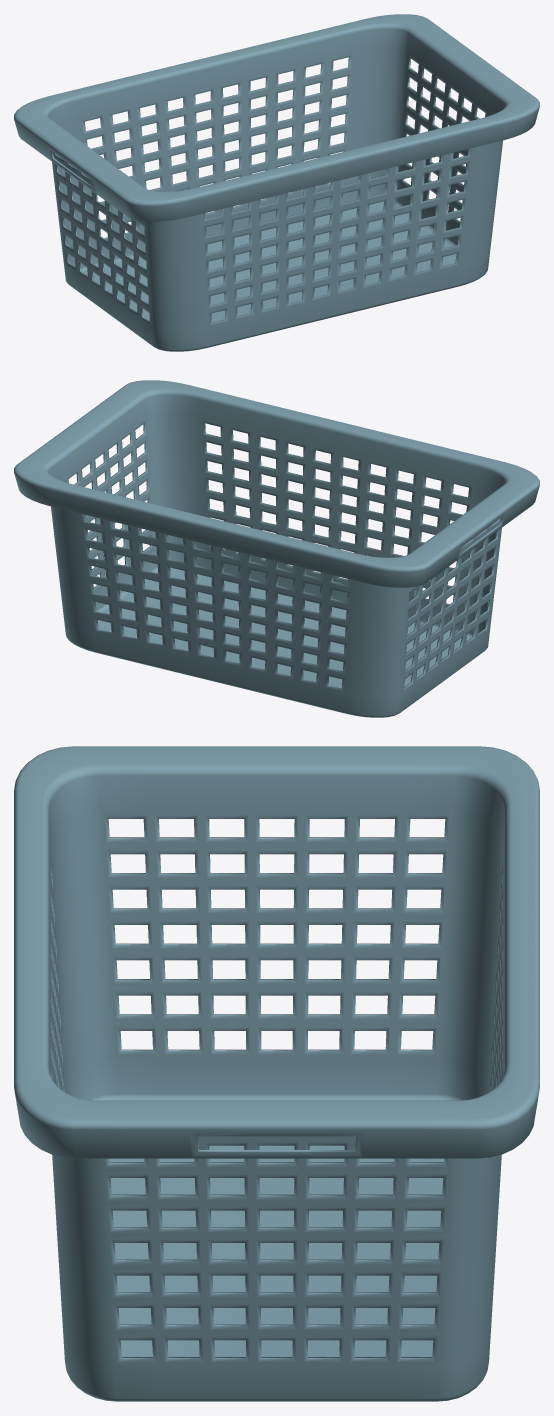
Rendered from PlasticWashingbasket.fbx.
The picture shows the model from 3 angles, top to bottom: view 1: azimuth 30°, elevation 25°; view 2: azimuth 150°, elevation 25°; view 3: azimuth 270°, elevation 25°; orthographic projection. The views are drawn at different scales.
Visible parts, largest first — view 1: Plane; view 2: Plane; view 3: Plane.
Part boxes in pixels (box(x1,y1,x2,y2)): Plane: box(14, 14, 539, 351); Plane: box(14, 380, 539, 717); Plane: box(14, 746, 539, 1401).
Size of the model in its own units: 120 by 47.37 by 70.69.
Materials: 1 (1 with a texture image).
